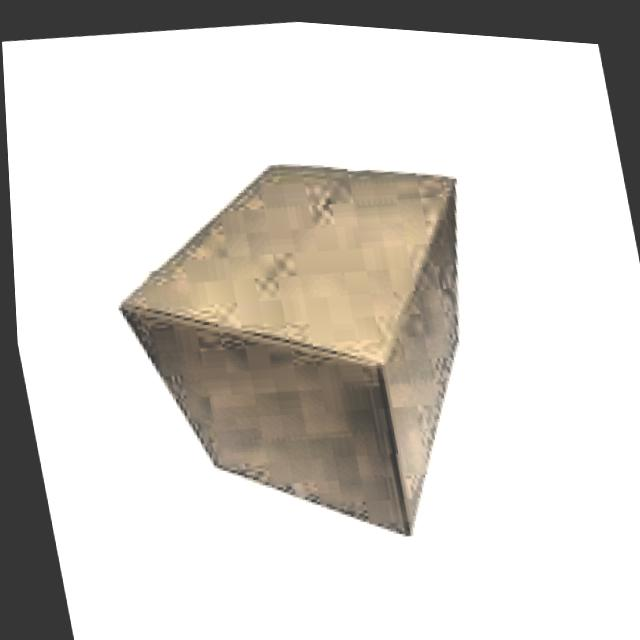Cardbox: (83, 111, 532, 586)
